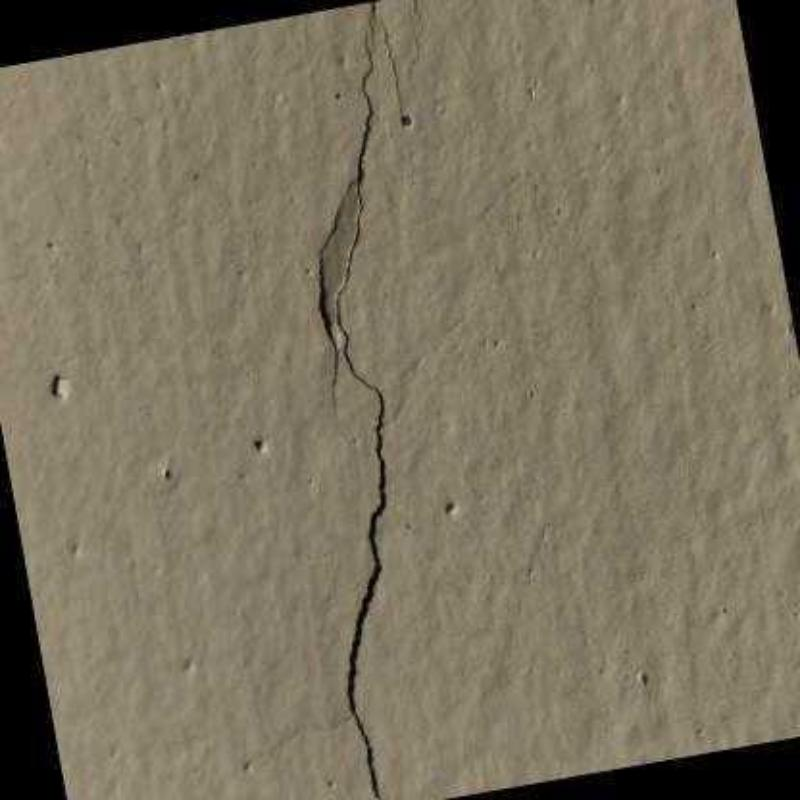crack: (335, 31, 387, 800), (318, 175, 357, 427), (380, 19, 404, 137), (406, 0, 421, 93), (369, 0, 377, 38)
